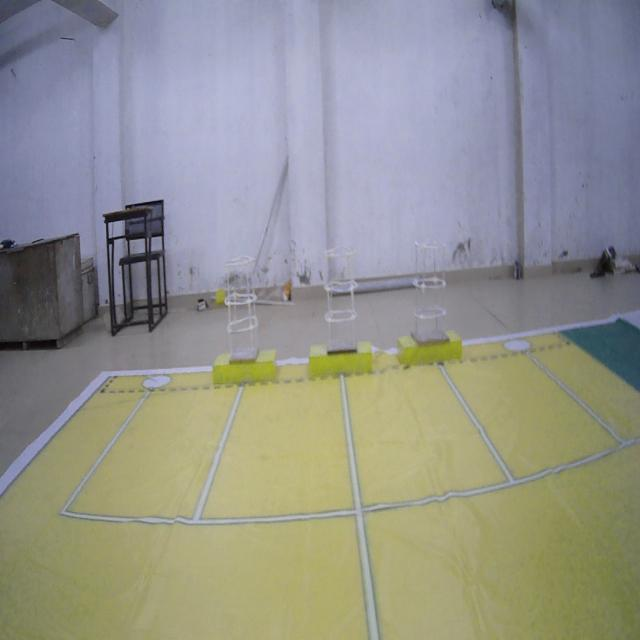silo: (402, 238, 453, 364), (313, 238, 364, 363), (218, 258, 260, 370)
